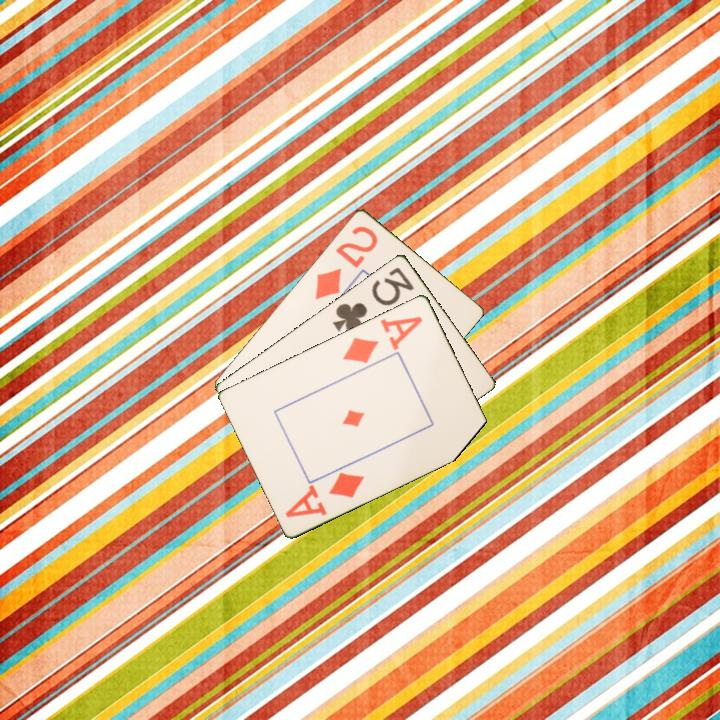2d: (311, 222, 381, 302)
3c: (329, 263, 417, 336)
Ad: (339, 312, 426, 366), (282, 468, 367, 520)
